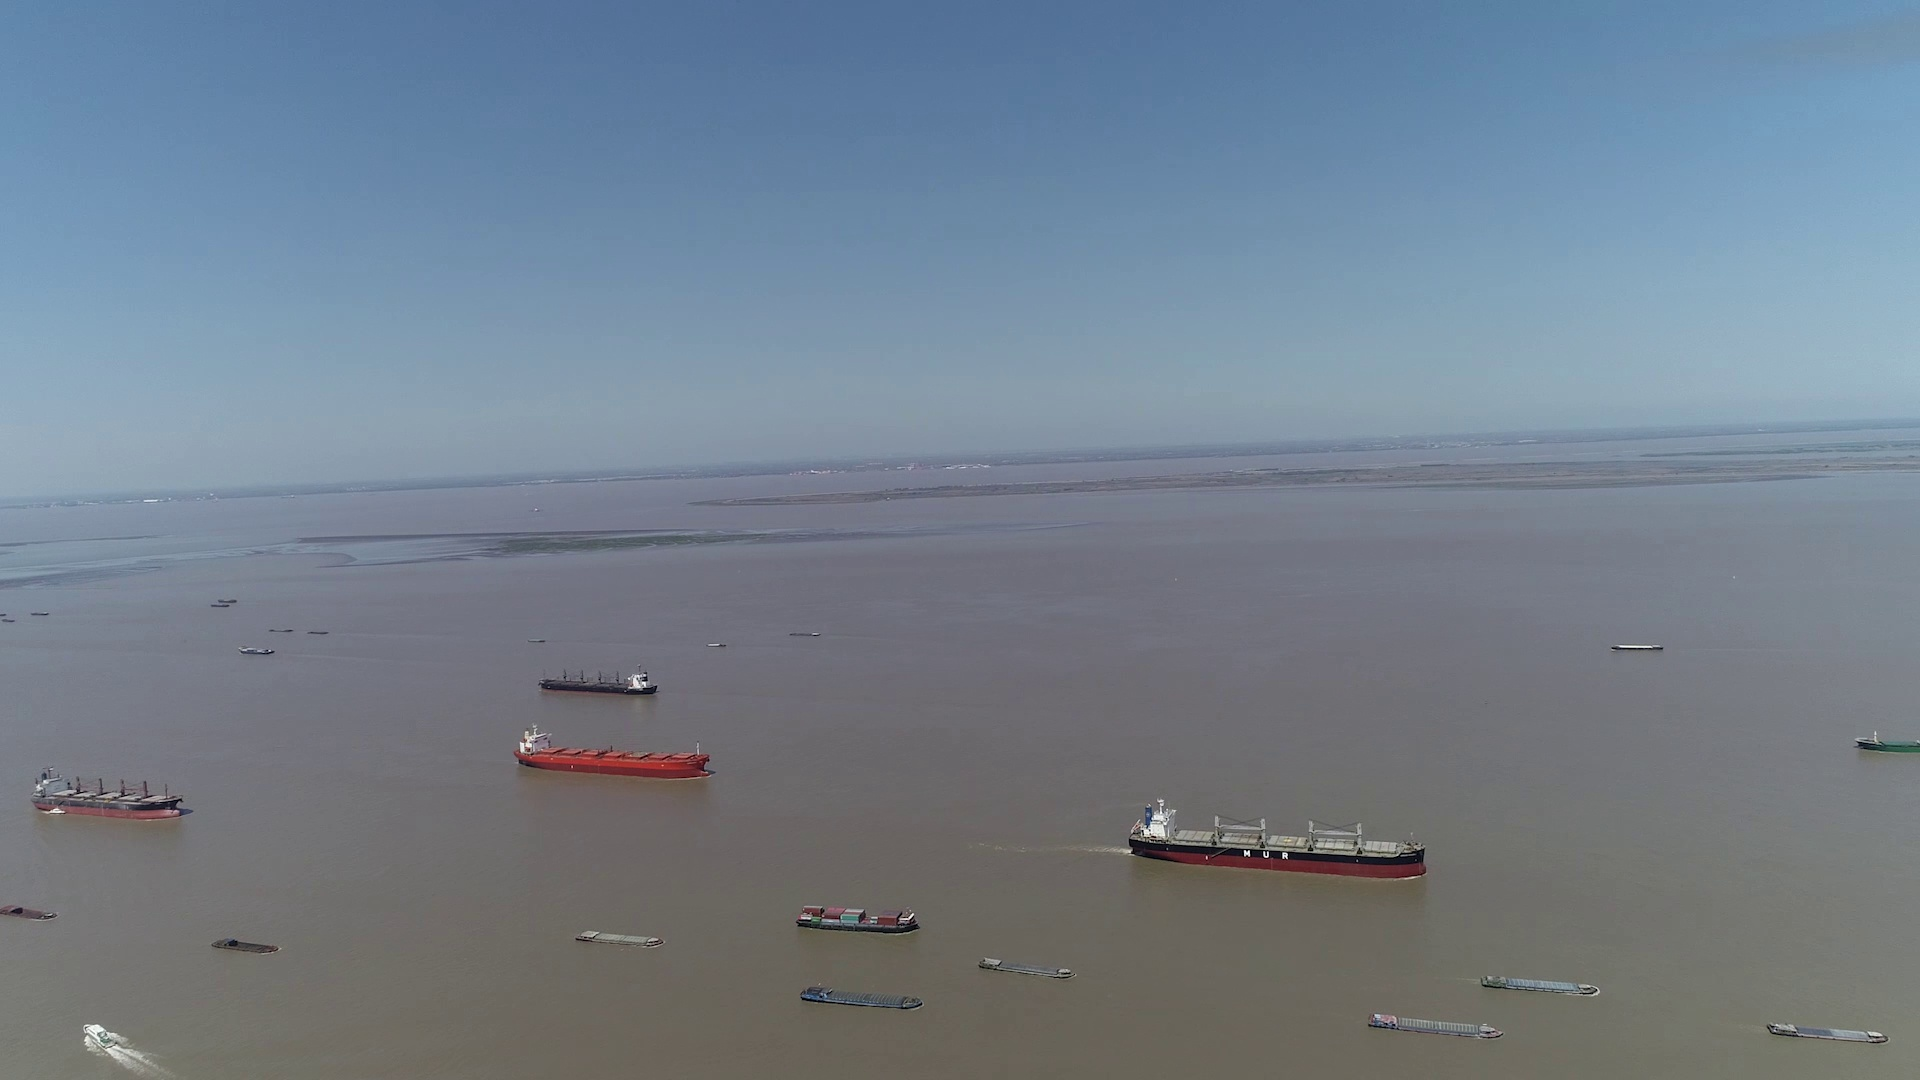ship: (1129, 798, 1423, 880), (513, 723, 708, 777), (516, 698, 691, 754), (32, 767, 185, 819), (798, 967, 924, 1000), (795, 905, 920, 935), (1367, 1011, 1502, 1038), (538, 667, 658, 696), (1766, 1021, 1888, 1044), (1480, 973, 1601, 997), (800, 984, 922, 1007), (978, 953, 1073, 977), (576, 928, 665, 947), (1855, 733, 1920, 754), (211, 938, 282, 955), (84, 1019, 123, 1050), (0, 901, 55, 919), (1613, 642, 1662, 651), (237, 646, 277, 655)
